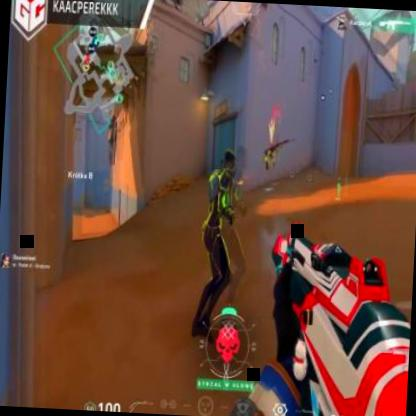enemy: (191, 140, 240, 342)
enemy_head: (222, 148, 236, 178)
